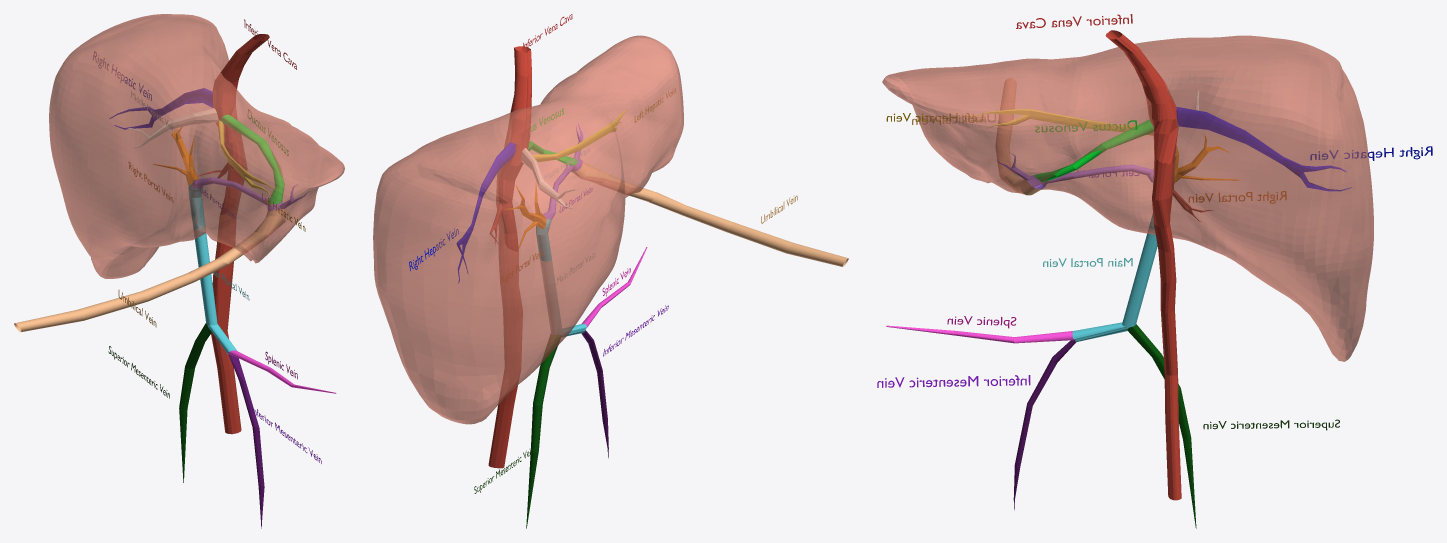
The model's file is LiverFull.glb.
The picture shows the model from 3 angles, left to right: view 1: azimuth 30°, elevation 25°; view 2: azimuth 150°, elevation 25°; view 3: azimuth 270°, elevation 25°; orthographic projection. The views are drawn at different scales.
Visible parts, largest first — view 1: LIVER, VEINS.001; view 2: LIVER, VEINS.001; view 3: LIVER, VEINS.001, Text.001.
Part boxes in pixels (x1,y1,x2,y2): LIVER: [49, 14, 344, 278]; VEINS.001: [14, 34, 336, 528]; LIVER: [373, 35, 683, 424]; VEINS.001: [456, 46, 848, 528]; LIVER: [882, 35, 1373, 361]; VEINS.001: [886, 30, 1351, 528]; Text.001: [877, 375, 1030, 387].
Bounding box in the file's own units: 57.93 × 75.92 × 71.76.
